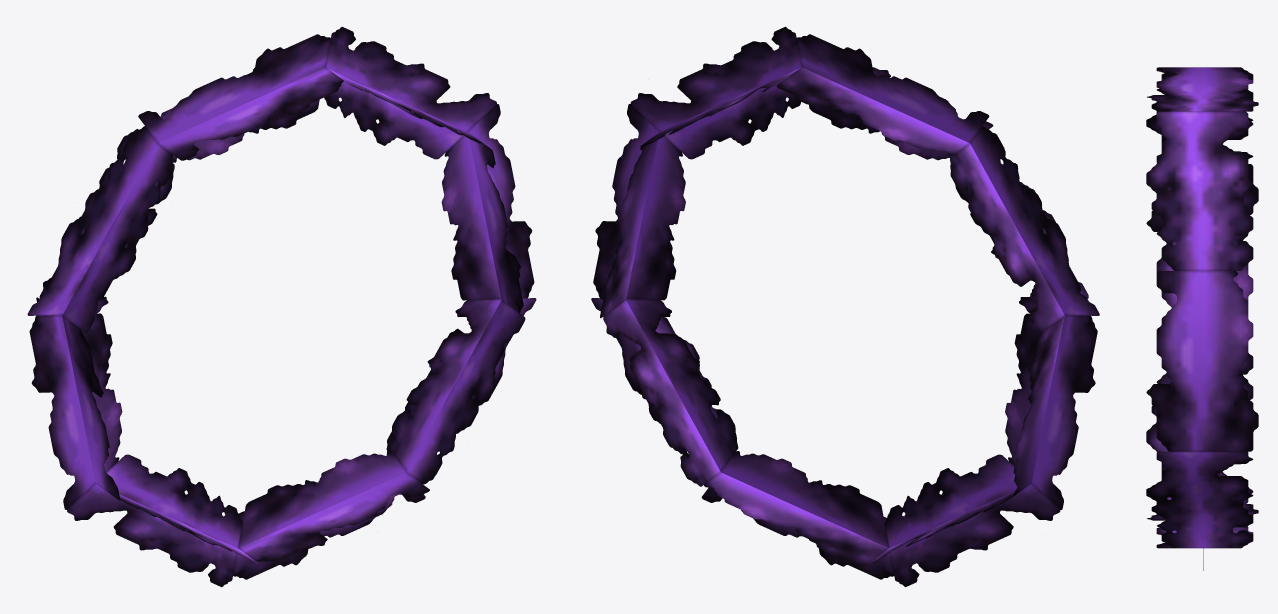
3 renders of one model, left to right at view 1: azimuth 30°, elevation 25°; view 2: azimuth 150°, elevation 25°; view 3: azimuth 270°, elevation 25°, orthographic. The views are drawn at different scales.
Parts seen in each view (by area): view 1: T1L7M005_24; view 2: T1L7M005_24; view 3: T1L7M005_24.
Part boxes in pixels (x1,y1,x2,y2): T1L7M005_24: (27, 26, 536, 587); T1L7M005_24: (591, 26, 1099, 587); T1L7M005_24: (1146, 67, 1258, 570).
Bounding box in the file's own units: 2.83 × 2.83 × 0.5957.
